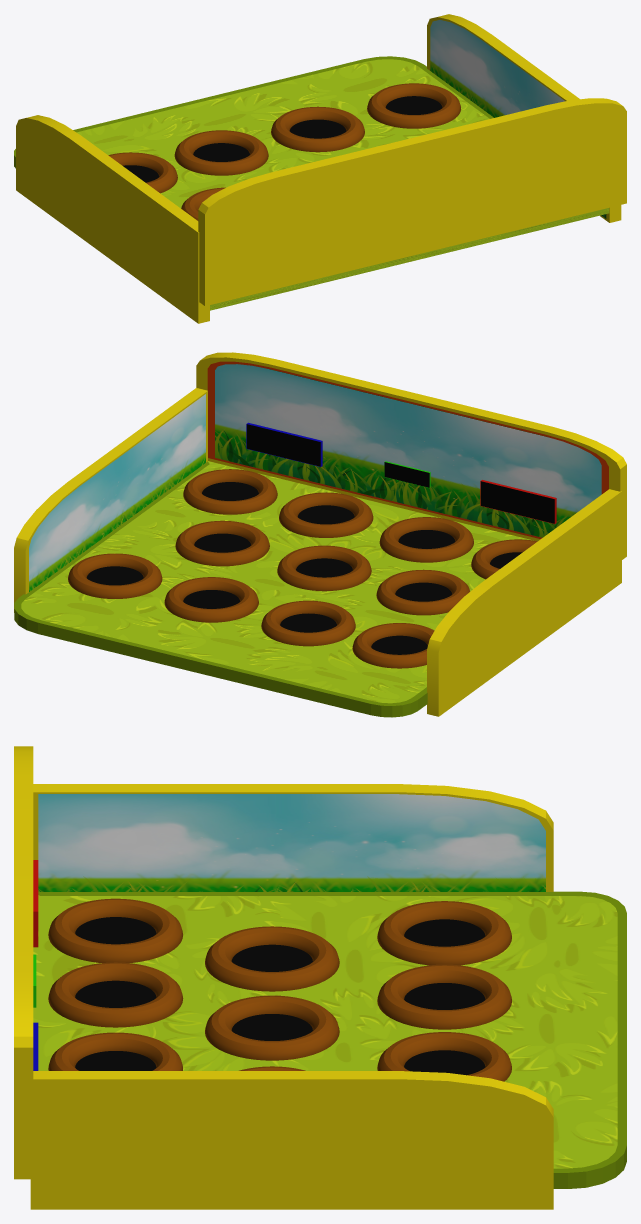
The model's file is WhackAMoleBoard.fbx.
3 views of the same model, one above another, from view 1: azimuth 30°, elevation 25°; view 2: azimuth 150°, elevation 25°; view 3: azimuth 270°, elevation 25° (orthographic). The views are drawn at different scales.
Visible parts, largest first — view 1: MainWall, MainPlane, RightWall, LeftWall, Torus.007, Torus.009, Torus.008, Torus.010, Plane.006, Plane.005, Plane.007, Torus.006; view 2: MainPlane, MainWall, RightWall, LeftWall, Torus.009, Torus.005, Torus.004, Torus.008, Torus, Torus.001, Torus.007, Torus.002 (+16 smaller); view 3: LeftWall, MainPlane, RightWall, MainWall, Torus.002, Torus.006, Torus.005, Torus.009, Torus.010, Torus.003, Torus.008, Torus (+8 smaller).
Boxes of the visible parts, box(x1,y1,x2,y2) form: MainWall: box(198, 98, 626, 306); MainPlane: box(14, 56, 609, 310); RightWall: box(16, 115, 209, 323); LeftWall: box(427, 14, 621, 222); Torus.007: box(367, 83, 460, 128); Torus.009: box(174, 130, 268, 175); Torus.008: box(271, 106, 364, 152); Torus.010: box(108, 152, 177, 193); Plane.006: box(289, 119, 346, 138); Plane.005: box(193, 143, 249, 161); Plane.007: box(385, 96, 442, 114); Torus.006: box(181, 187, 225, 220); MainPlane: box(14, 461, 533, 717); MainWall: box(196, 352, 626, 559); RightWall: box(427, 489, 621, 716); LeftWall: box(14, 388, 207, 612); Torus.009: box(261, 600, 355, 646); Torus.005: box(277, 545, 371, 591); Torus.004: box(175, 520, 269, 566); Torus.008: box(164, 577, 258, 622); Torus: box(279, 492, 373, 537); Torus.001: box(183, 469, 277, 514); Torus.007: box(68, 553, 162, 598); Torus.002: box(379, 517, 473, 562); LeftWall: box(30, 1071, 553, 1209); MainPlane: box(33, 891, 626, 1188); RightWall: box(33, 784, 553, 891); MainWall: box(14, 746, 33, 1179); Torus.002: box(48, 962, 183, 1027); Torus.006: box(205, 926, 339, 991); Torus.005: box(205, 995, 339, 1060); Torus.009: box(377, 964, 511, 1029); Torus.010: box(377, 901, 511, 965); Torus.003: box(48, 898, 182, 962); Torus.008: box(377, 1032, 511, 1081); Torus: box(48, 1032, 182, 1070).
Bounding box in the file's own units: 210 × 63.13 × 184.
Materials: 13 (4 with a texture image).
